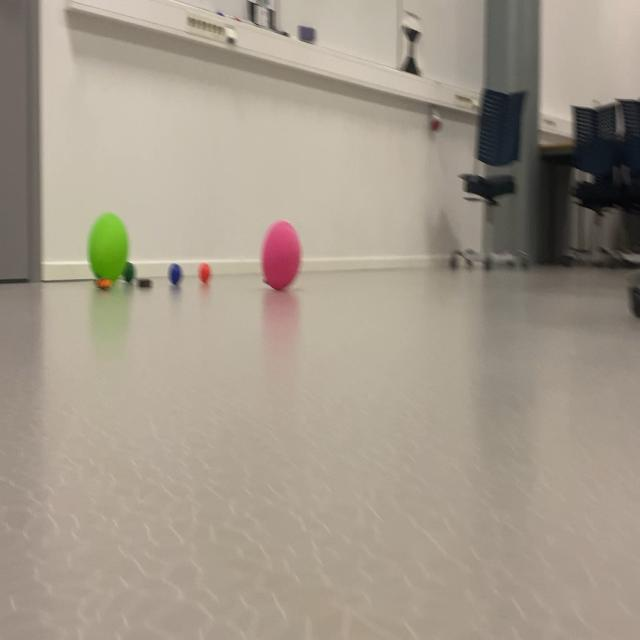7: (195, 252, 214, 290)
green ball: (165, 250, 184, 294)
red ball: (122, 258, 136, 285)
